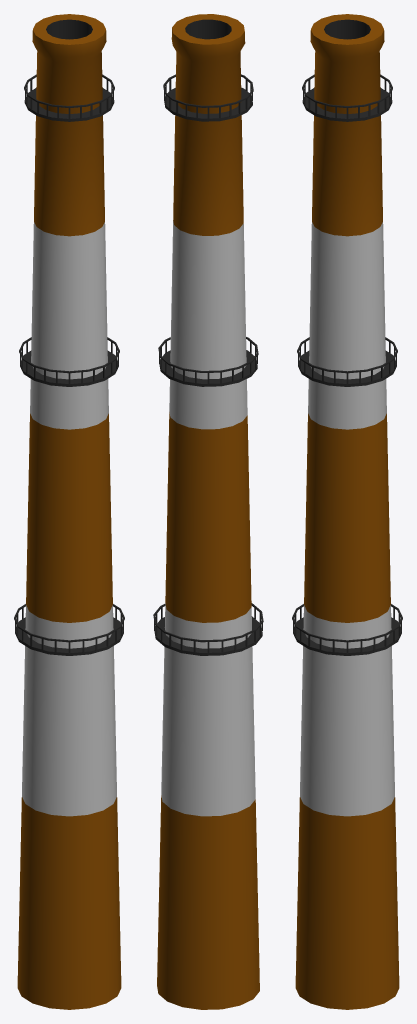
Rendered from smoke-stack.glb.
3 views of the same model, side by side, from view 1: azimuth 90°, elevation 25°; view 2: azimuth 150°, elevation 25°; view 3: azimuth 270°, elevation 25° (orthographic).
Visible parts, largest first — view 1: Truba; view 2: Truba; view 3: Truba.
Boxes of the visible parts, x1,y1,x2,y2 form: Truba: (14, 14, 124, 1009); Truba: (153, 14, 263, 1009); Truba: (292, 14, 402, 1009).
Size of the model in its own units: 0.0525 by 0.5006 by 0.0525.
